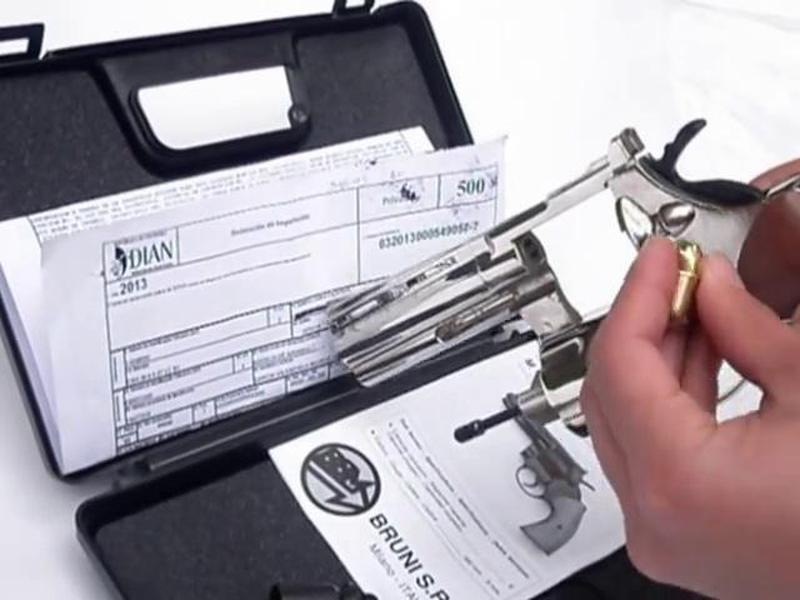Revolver: (320, 112, 800, 448)
